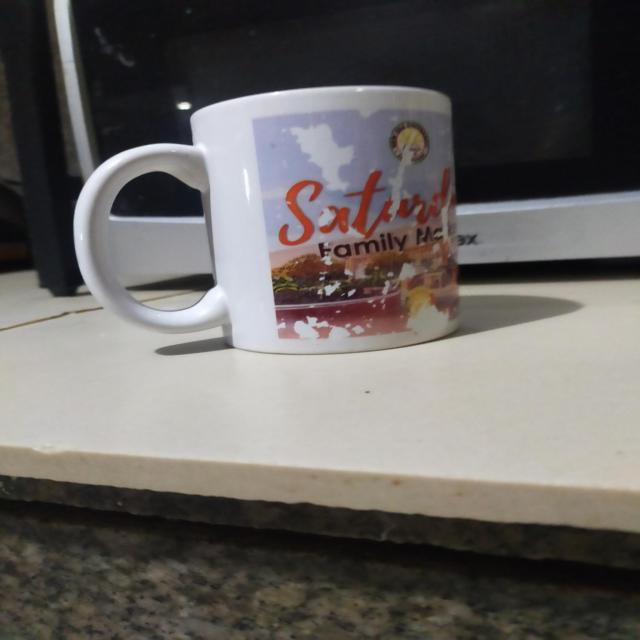taza: (71, 86, 456, 352)
